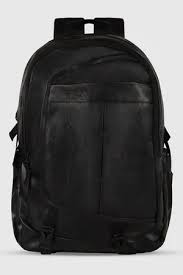backpack: (9, 16, 173, 254)
